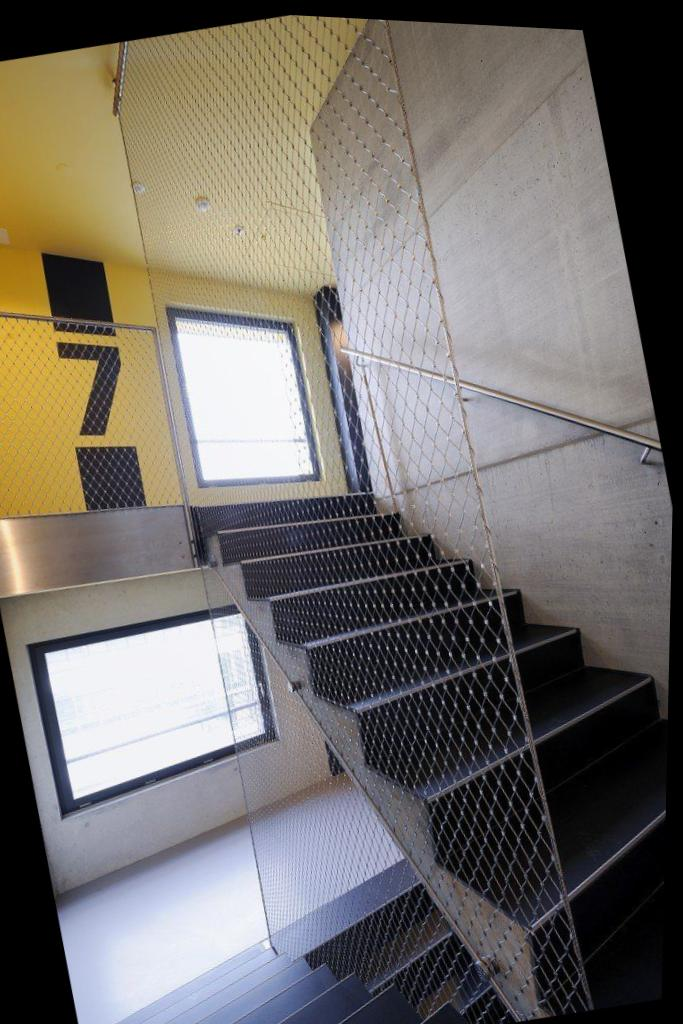Bench: (185, 400, 676, 1024)
